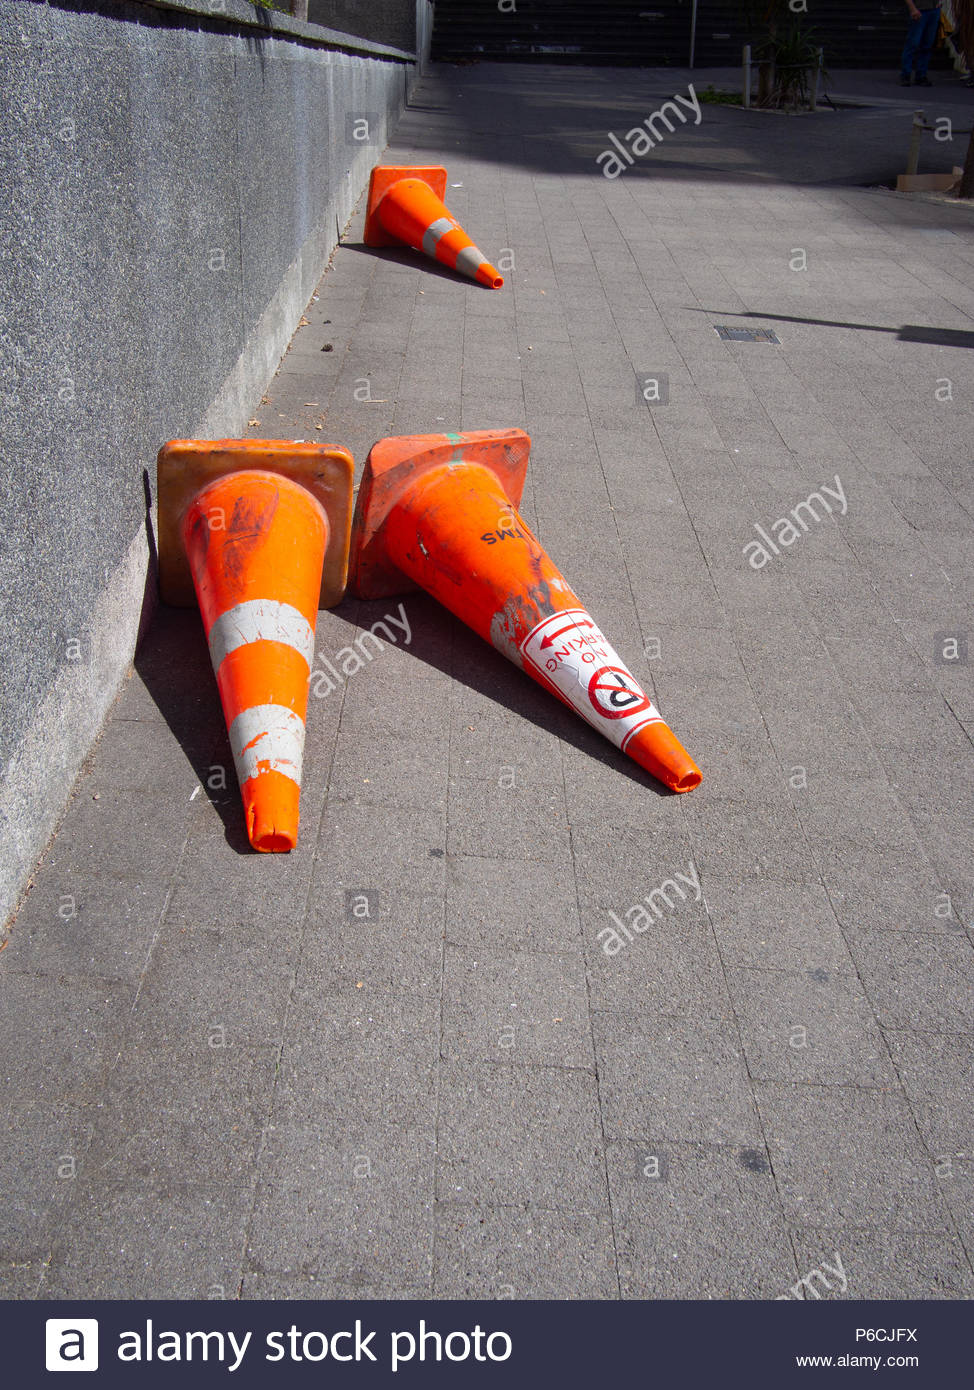cones: (357, 425, 708, 815), (138, 427, 355, 869)
